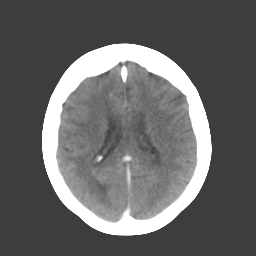ischemic: (86, 117, 106, 142)
